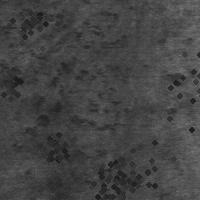rolled-in_scale: (1, 6, 122, 125), (140, 34, 200, 142), (73, 132, 165, 200), (0, 0, 62, 56), (34, 128, 74, 168), (0, 57, 30, 101)
